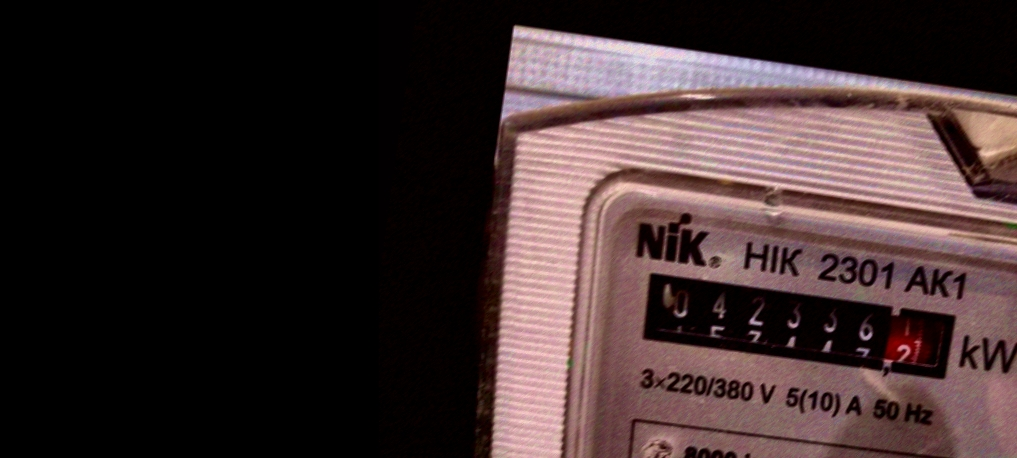0: (667, 284, 690, 320)
1: (896, 311, 912, 338)
2: (743, 291, 768, 328), (890, 341, 910, 364)
3: (780, 295, 802, 329), (818, 301, 840, 335)
4: (707, 286, 728, 320)
6: (852, 308, 877, 344)
screen: (624, 256, 969, 393)
